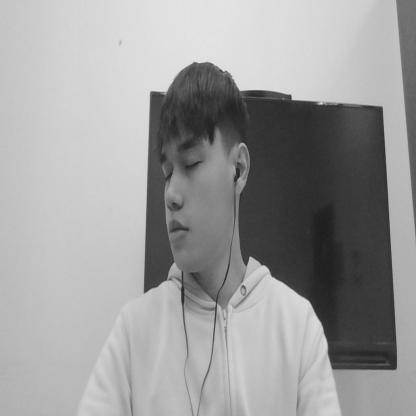Closed-Eyes: (154, 142, 206, 184)
